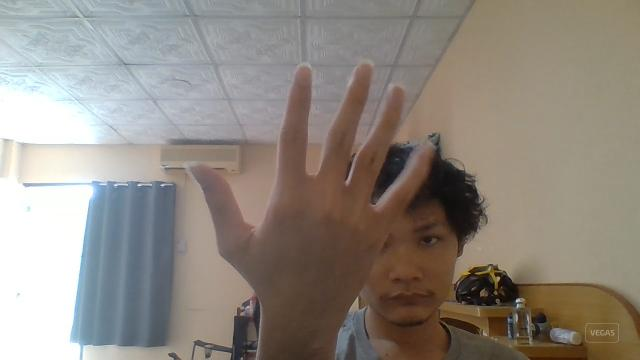backword: (183, 59, 437, 357)
